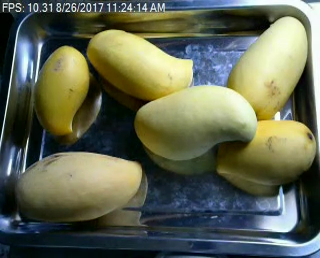Mango: (18, 152, 144, 224), (135, 85, 257, 158), (227, 16, 308, 119), (87, 28, 192, 101), (215, 118, 319, 185), (33, 44, 88, 134)
